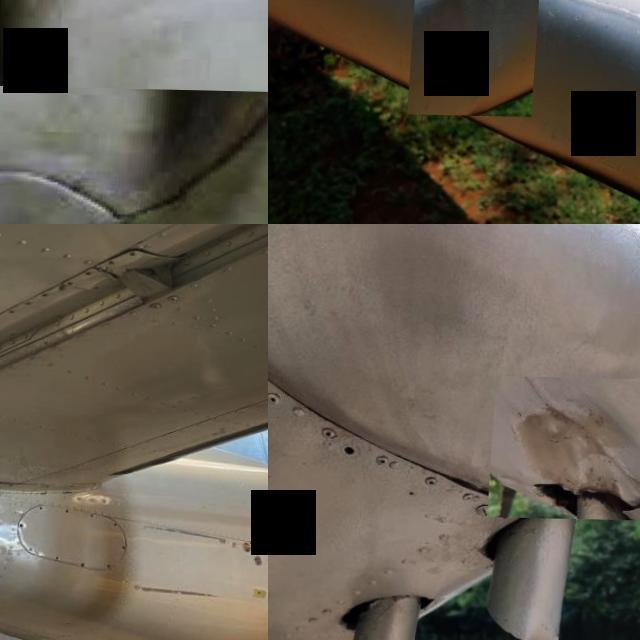Crack: (0, 82, 268, 224)
Dent: (491, 374, 640, 518), (412, 0, 545, 115)
Missing_Fastener: (60, 555, 69, 559), (120, 522, 126, 525), (113, 564, 120, 566), (46, 506, 50, 509), (0, 518, 3, 521)
